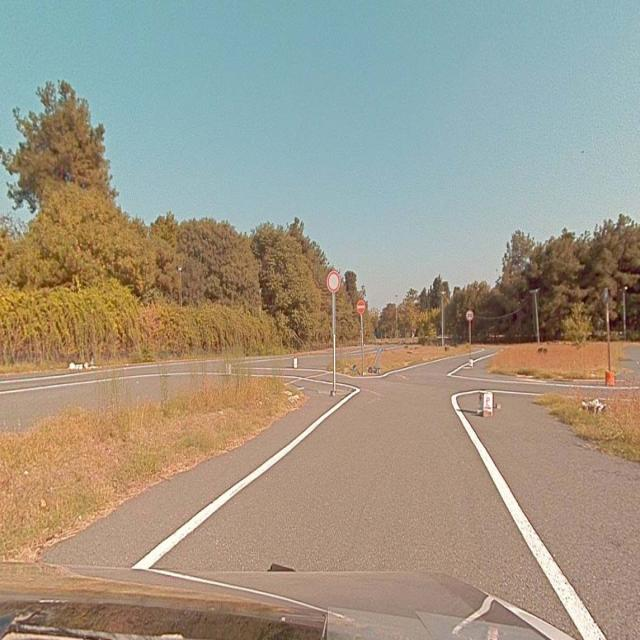girisyok: (357, 299, 365, 313)
